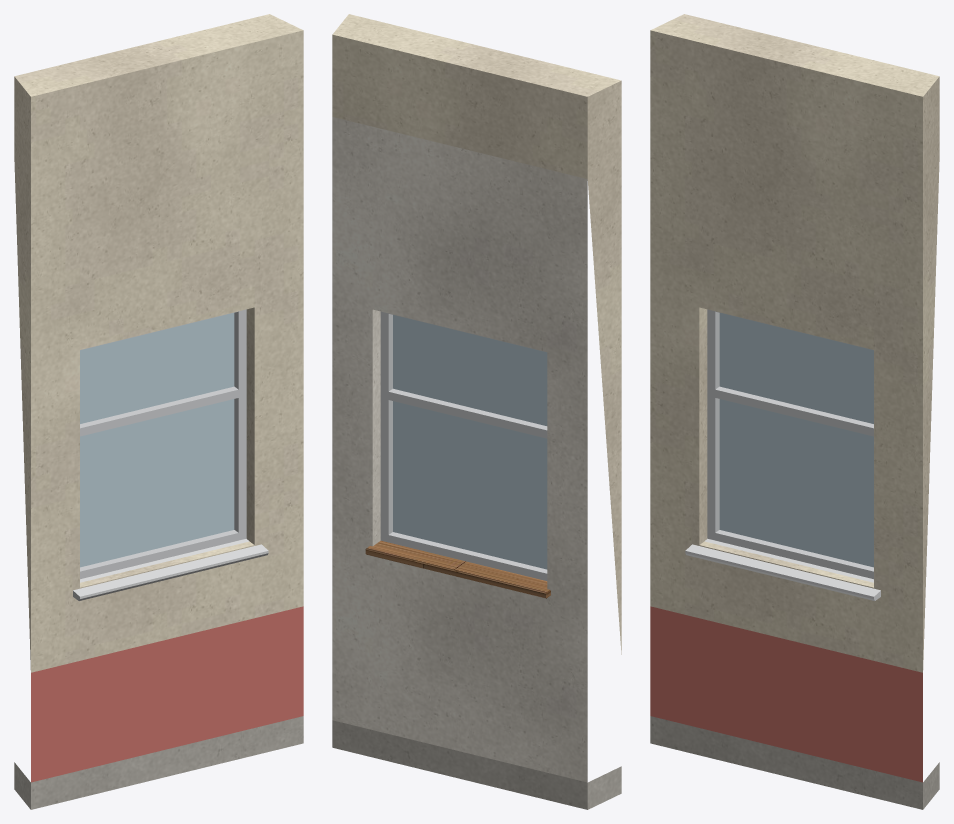
File: f_win.glb
3 renders of one model, left to right at view 1: azimuth 30°, elevation 25°; view 2: azimuth 150°, elevation 25°; view 3: azimuth 330°, elevation 25°, orthographic.
Parts seen in each view (by area): view 1: f_win_render, f_win_glass, f_win_tile_r, f_win_concrete, f_win_frame, f_win_coping; view 2: f_win_plaster, f_win_render, f_win_glass, f_win_concrete, f_win_frame, f_win_wood; view 3: f_win_render, f_win_glass, f_win_tile_r, f_win_concrete, f_win_frame, f_win_coping.
Part boxes in pixels (<box>): f_win_render: <box>14,14,303,672</box>; f_win_glass: <box>80,313,234,567</box>; f_win_tile_r: <box>31,606,303,782</box>; f_win_concrete: <box>14,716,303,809</box>; f_win_frame: <box>80,309,246,579</box>; f_win_coping: <box>73,538,268,600</box>; f_win_plaster: <box>332,117,587,782</box>; f_win_render: <box>332,14,621,654</box>; f_win_glass: <box>393,315,547,569</box>; f_win_concrete: <box>332,720,621,809</box>; f_win_frame: <box>380,311,547,580</box>; f_win_wood: <box>365,540,550,598</box>; f_win_render: <box>650,14,939,672</box>; f_win_glass: <box>719,313,873,567</box>; f_win_tile_r: <box>650,606,922,782</box>; f_win_concrete: <box>650,716,939,809</box>; f_win_frame: <box>707,309,873,579</box>; f_win_coping: <box>685,538,880,600</box>.
Size of the model in its own units: 1.56 by 3.9 by 0.36.
8 materials, 4 textured.
